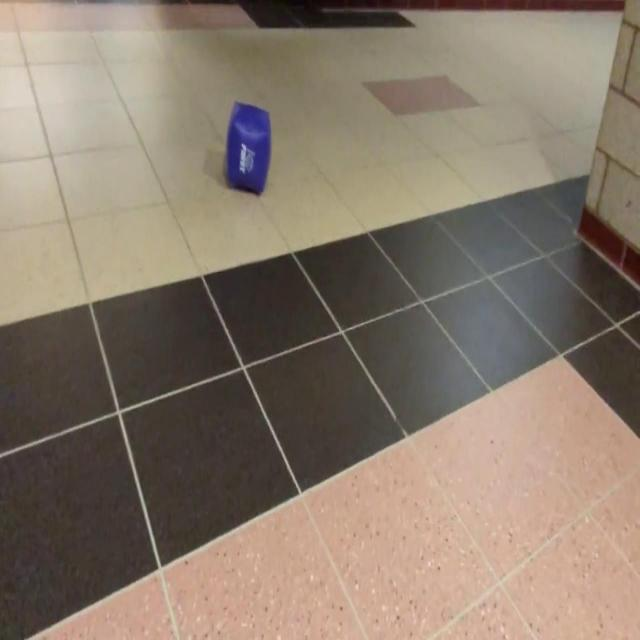frc_cube: (224, 101, 270, 188)
